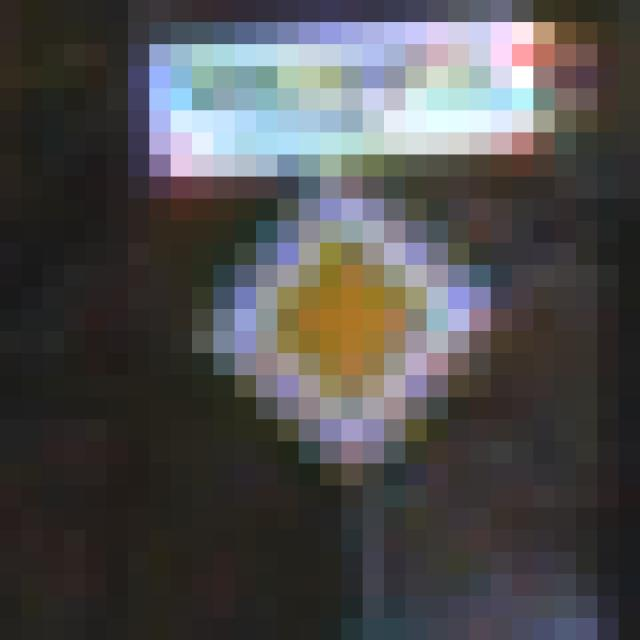Main Road: (129, 111, 534, 531)
